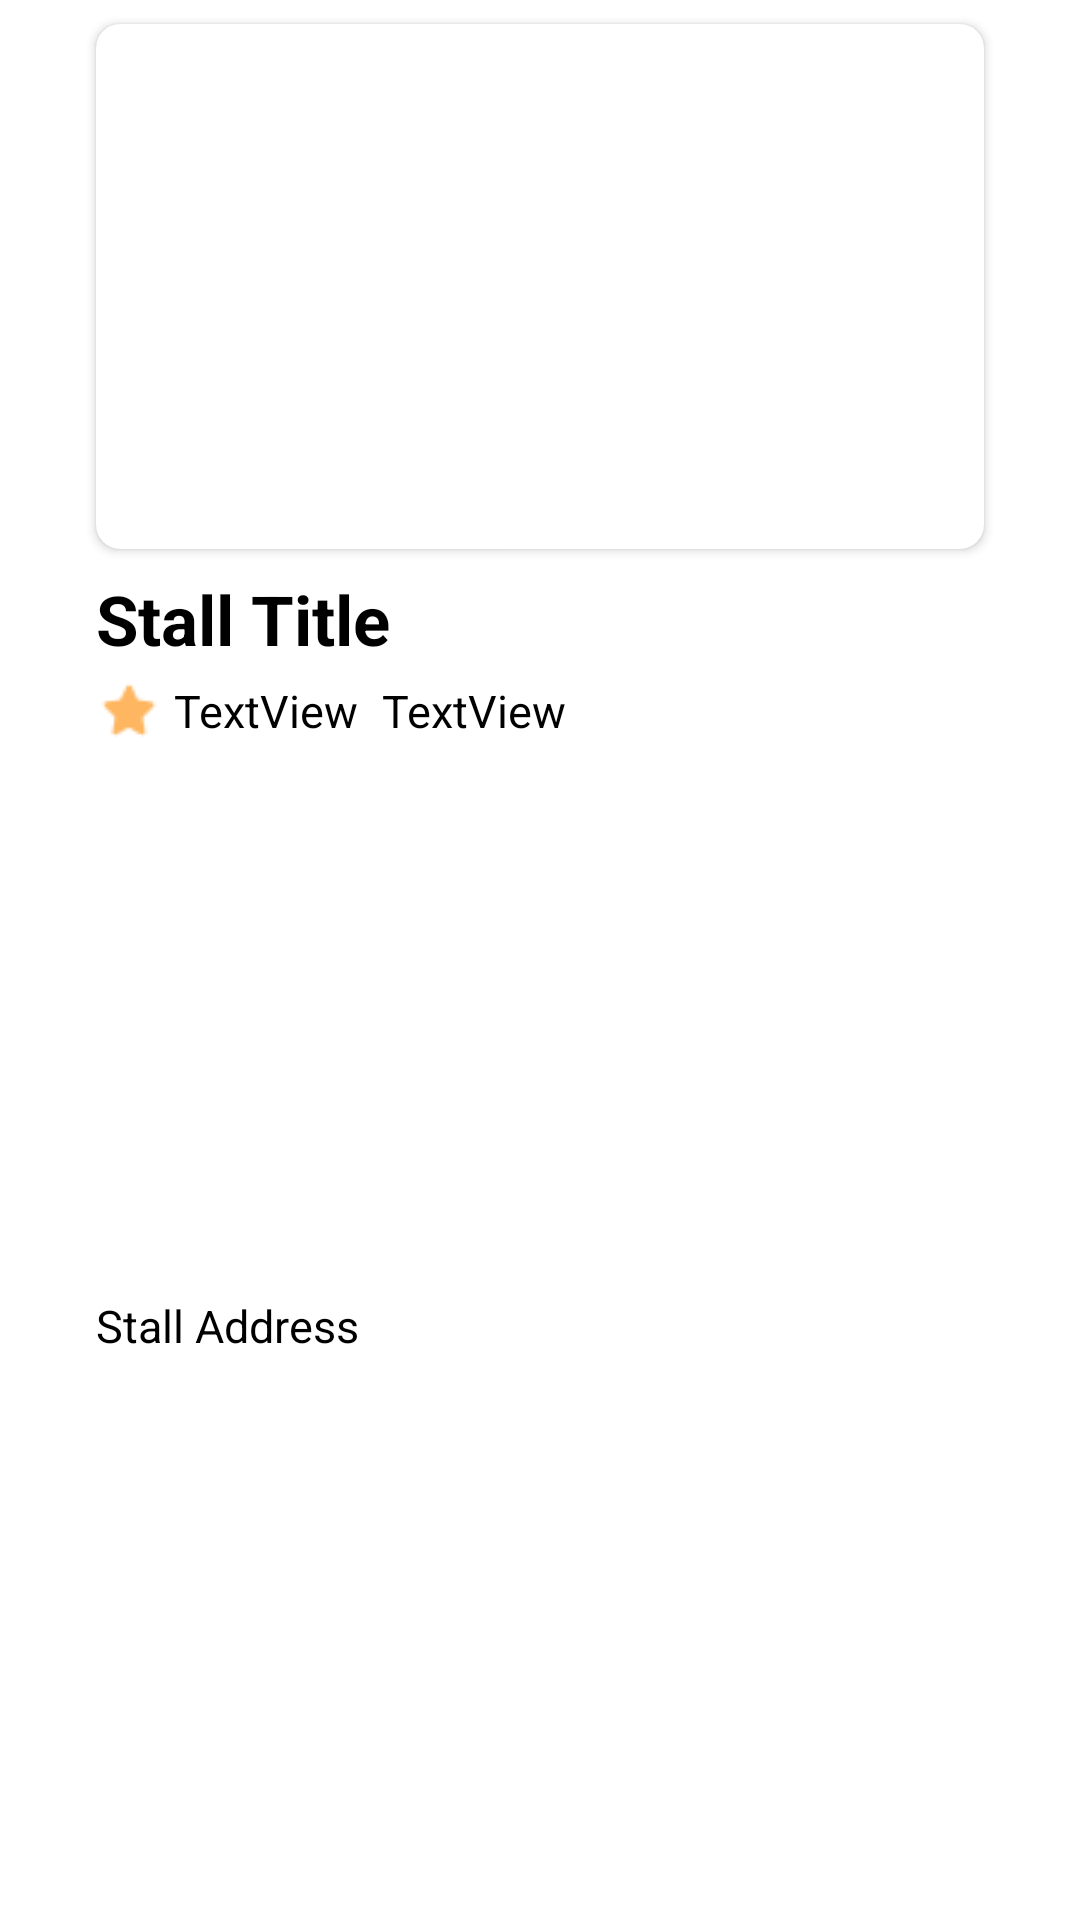

Icons on this 1080px x 1920px Android screen, each with the point to tap as (x,y):
A gold star to represent the rating of the stall: (129,710)
